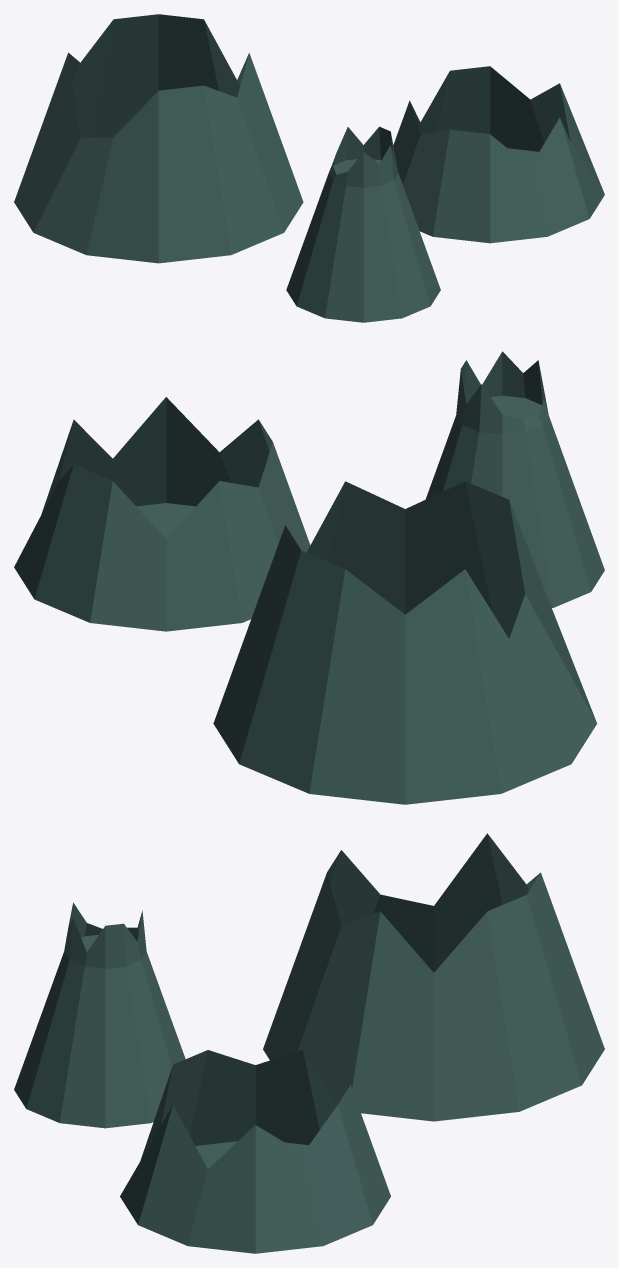
The model's file is Broken Flask.fbx.
3 views of the same model, one above another, from view 1: azimuth 30°, elevation 25°; view 2: azimuth 150°, elevation 25°; view 3: azimuth 270°, elevation 25° (orthographic). The views are drawn at different scales.
Parts seen in each view (by area): view 1: pasted__pasted__group_pasted__pCylinder1; view 2: pasted__pasted__group_pasted__pCylinder1; view 3: pasted__pasted__group_pasted__pCylinder1.
Boxes of the visible parts, x1,y1,x2,y2 form: pasted__pasted__group_pasted__pCylinder1: [14, 14, 604, 322]; pasted__pasted__group_pasted__pCylinder1: [14, 351, 604, 804]; pasted__pasted__group_pasted__pCylinder1: [14, 833, 604, 1253].
Bounding box in the file's own units: 0.9037 × 0.2732 × 0.8144.
